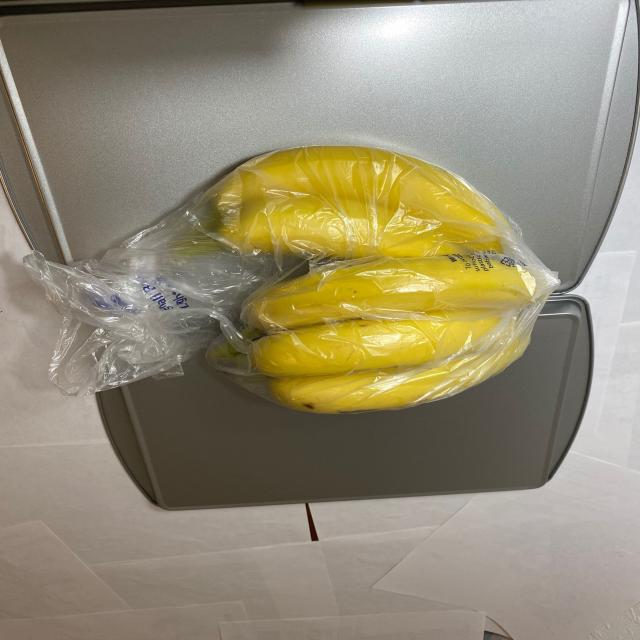banana: (184, 143, 552, 420)
